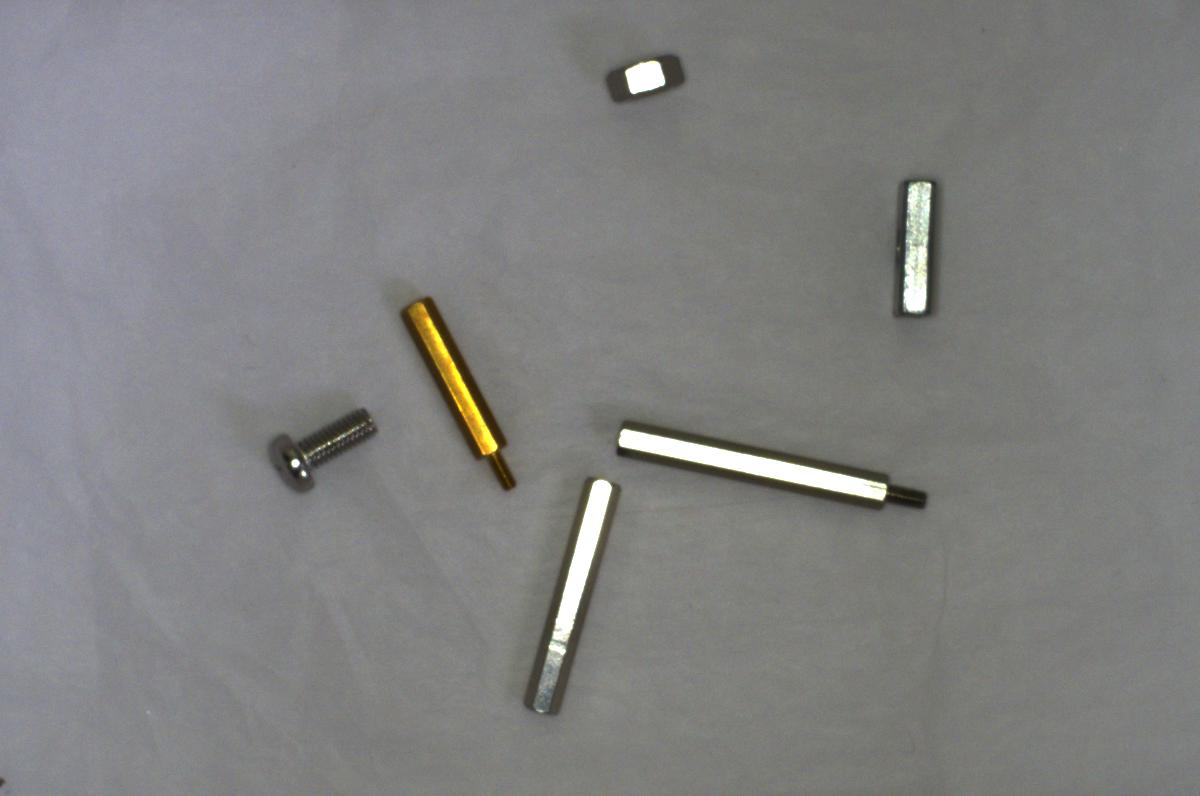Double hexagonal column: (528, 475, 613, 716)
Hexagon nut: (600, 40, 692, 113)
Hexagon pillar: (397, 294, 518, 493)
Hexagonal steel column: (601, 409, 941, 519)
Rectangular nut: (878, 170, 944, 320)
Round head screw: (265, 398, 388, 493)
